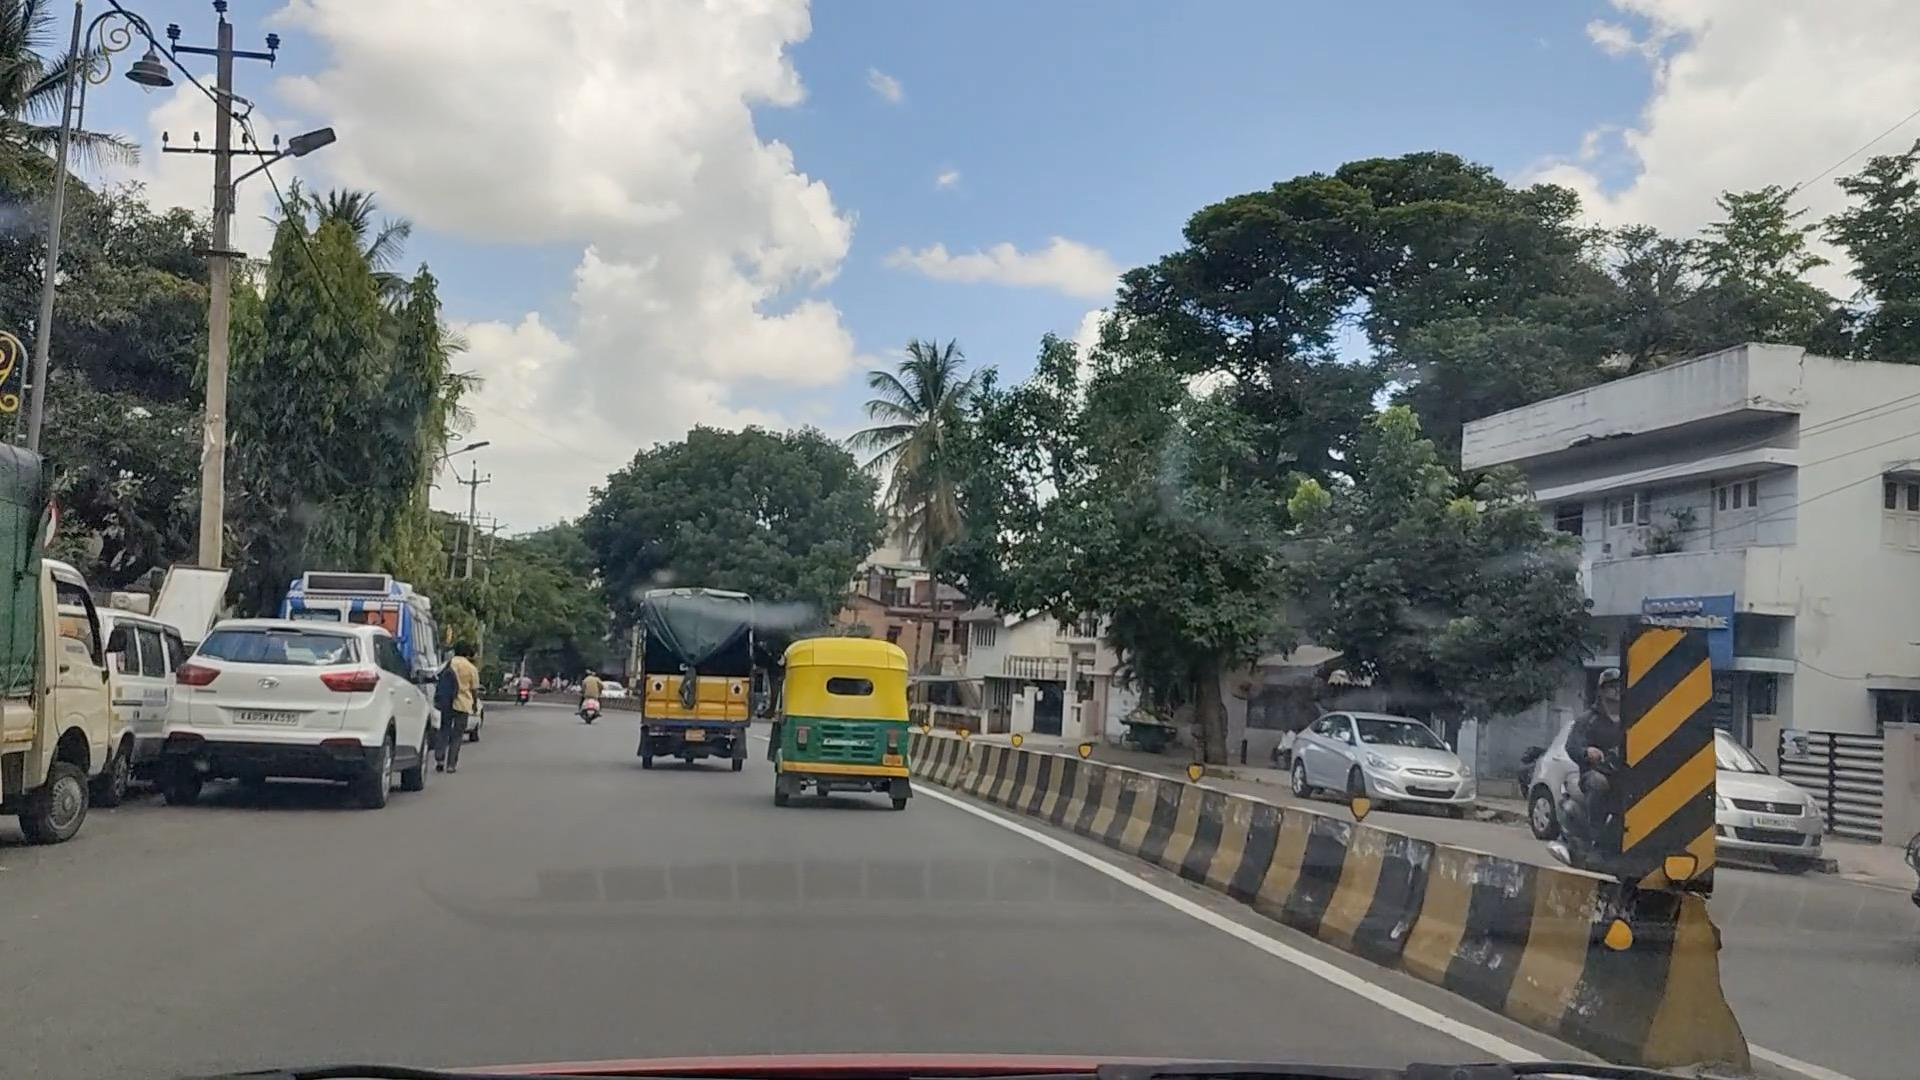HMV: (650, 587, 750, 762)
LMV: (157, 624, 423, 804), (783, 637, 898, 818)
